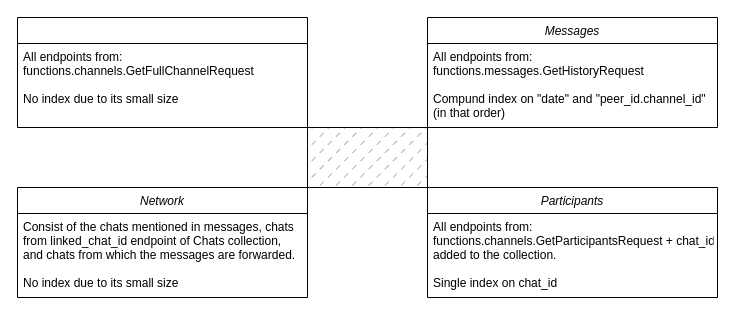
The diagram is 735 pixels wide and 318 high, and some of its shapes have lost their labels. The shapes that lost their labels are listed below. From the top down, each one's box as (x1, y1, x2, y2) in pixels, then its label:
(16, 16, 308, 128): Chats
(306, 126, 428, 188): chat_id act as a "foreign key" in every collection
